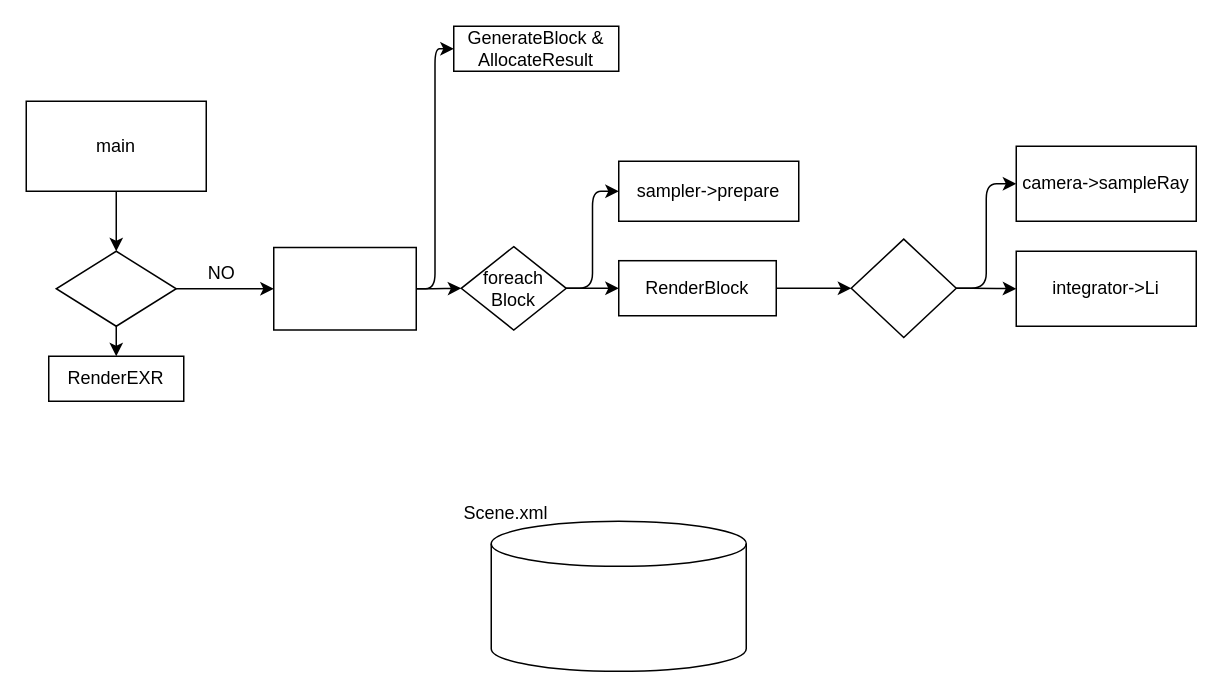
Some shapes in this 1223 by 698 pixel diagram are drawn without their labels. The centre of each missing label's shape, as x and y in pixels:
"foreach Pixel" goes at point (903, 288).
"if EXR" goes at point (115, 288).
"Integrator Sampler" goes at point (618, 595).
"Render" goes at point (344, 288).
